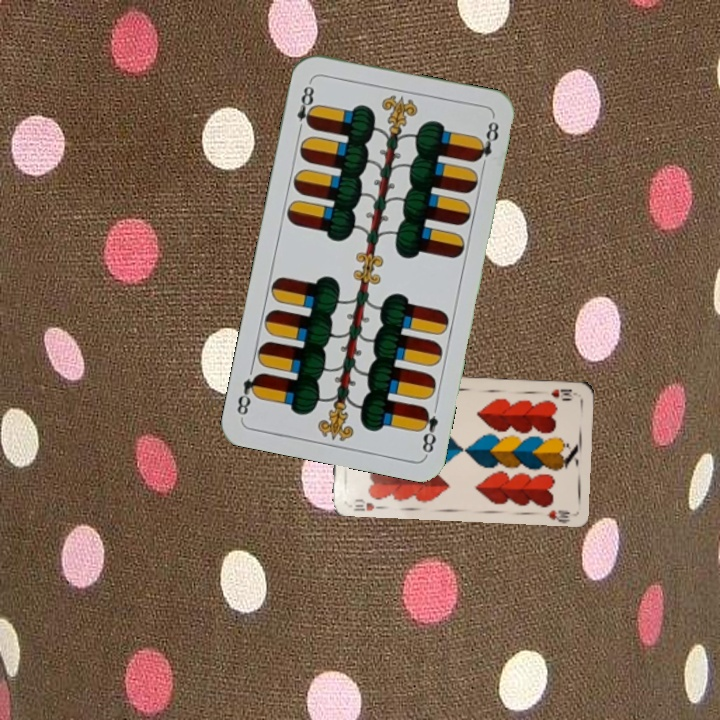E8: (293, 77, 319, 136), (415, 403, 441, 457)
H10: (350, 495, 385, 514), (547, 385, 579, 402)
